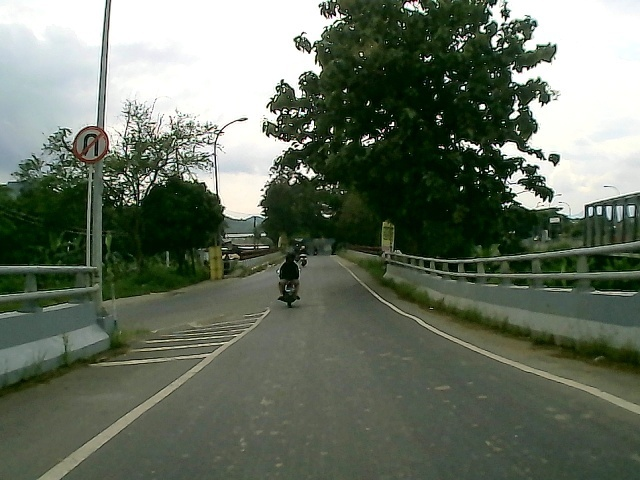Dilarang berbalik arah: (71, 126, 110, 165)
